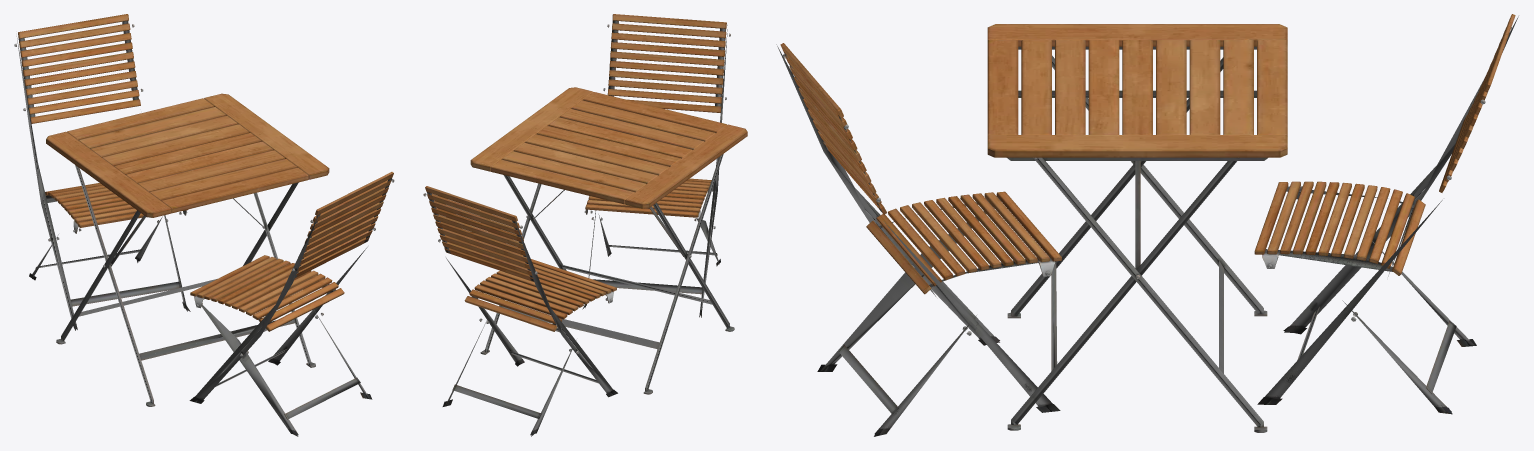
The model's file is outdoor_table_chair_set_01.1cb22627.glb.
The picture shows the model from 3 angles, left to right: view 1: azimuth 30°, elevation 25°; view 2: azimuth 150°, elevation 25°; view 3: azimuth 270°, elevation 25°; orthographic projection. The views are drawn at different scales.
Parts seen in each view (by area): view 1: outdoor_table_chair_set_01_table, outdoor_table_chair_set_01_chair_01, outdoor_table_chair_set_01_chair_02; view 2: outdoor_table_chair_set_01_table, outdoor_table_chair_set_01_chair_02, outdoor_table_chair_set_01_chair_01; view 3: outdoor_table_chair_set_01_table, outdoor_table_chair_set_01_chair_01, outdoor_table_chair_set_01_chair_02.
Part boxes in pixels (<box>): outdoor_table_chair_set_01_table: <box>46,93,329,406</box>; outdoor_table_chair_set_01_chair_01: <box>189,172,394,436</box>; outdoor_table_chair_set_01_chair_02: <box>14,14,190,330</box>; outdoor_table_chair_set_01_table: <box>470,87,747,394</box>; outdoor_table_chair_set_01_chair_02: <box>423,186,617,436</box>; outdoor_table_chair_set_01_chair_01: <box>582,14,730,317</box>; outdoor_table_chair_set_01_table: <box>987,24,1287,432</box>; outdoor_table_chair_set_01_chair_01: <box>776,43,1061,436</box>; outdoor_table_chair_set_01_chair_02: <box>1254,14,1518,414</box>.
Bounding box in the file's own units: 0.7404 × 0.8505 × 1.71.
2 materials, 2 textured.
